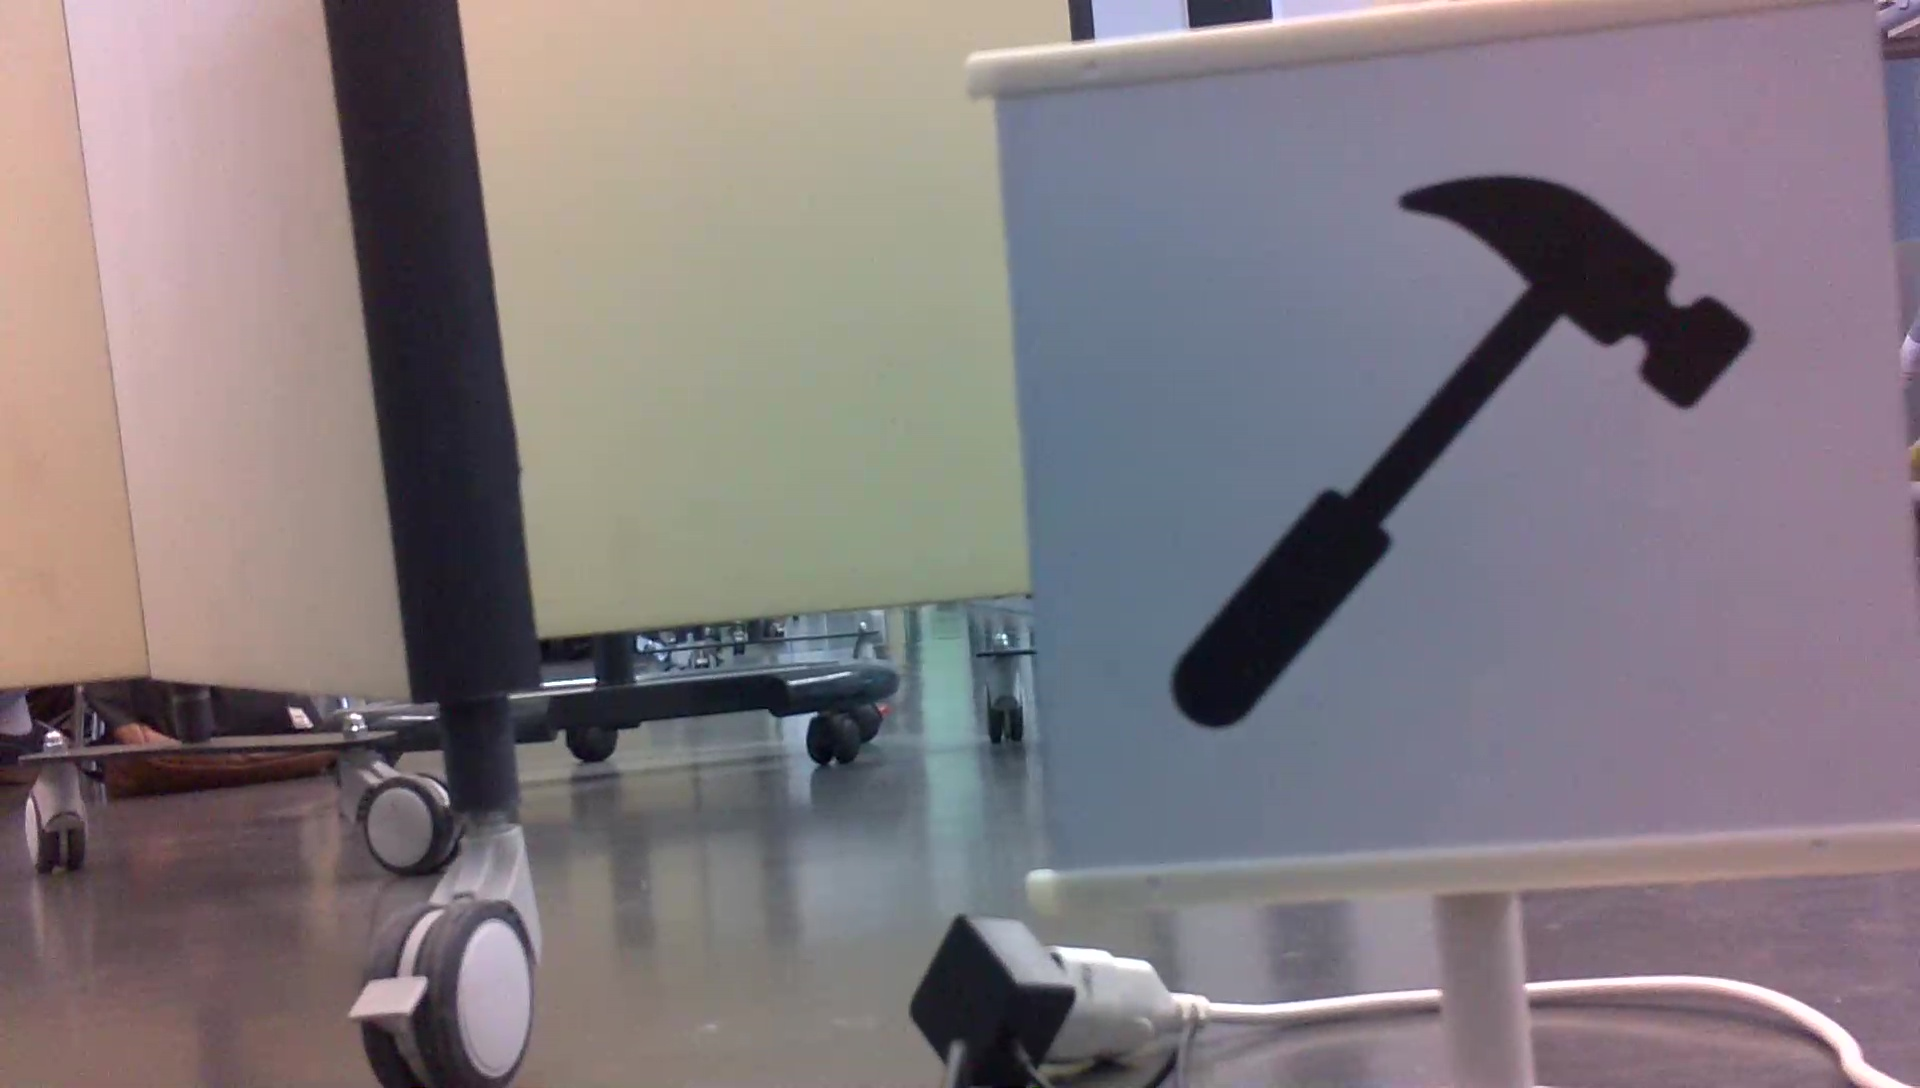hammer: (1160, 170, 1764, 736)
